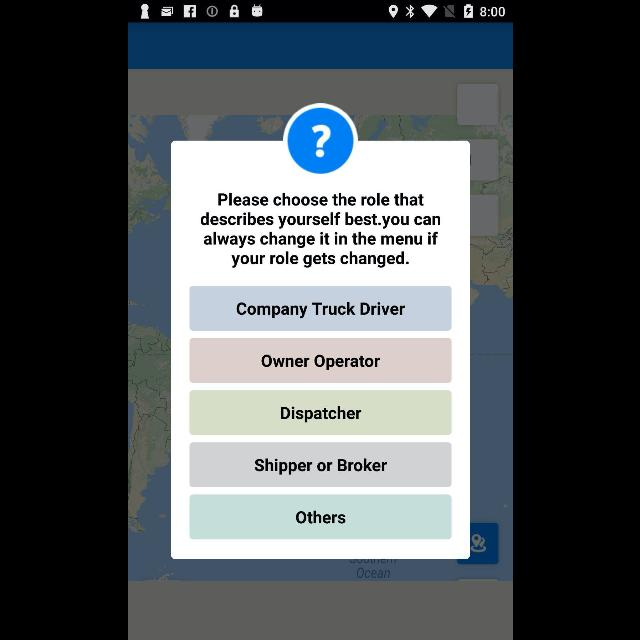icon: (284, 104, 356, 178)
panel: (170, 103, 470, 559)
text: (199, 192, 439, 268)
textbutton: (188, 286, 450, 330), (189, 338, 451, 382), (189, 391, 451, 435), (189, 443, 451, 487), (189, 495, 451, 539)
uppertaskbar: (128, 1, 512, 23)
